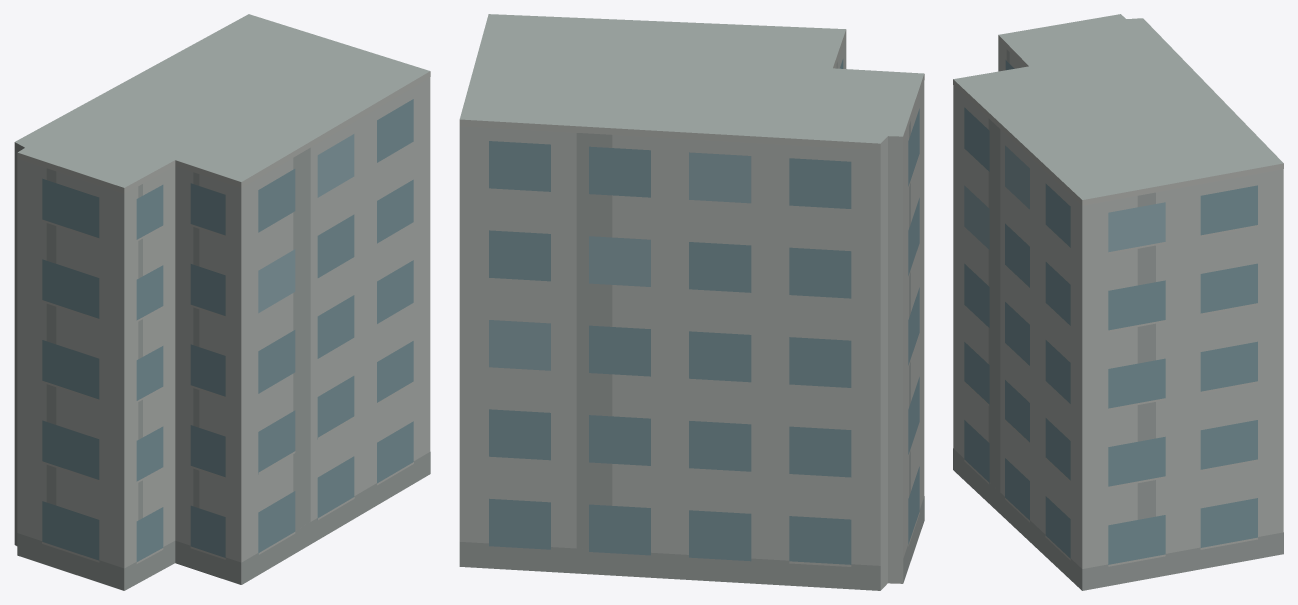
File: survey-upis-32851283.glb
3 renders of one model, left to right at view 1: azimuth 30°, elevation 25°; view 2: azimuth 150°, elevation 25°; view 3: azimuth 270°, elevation 25°, orthographic. The views are drawn at different scales.
Visible parts, largest first — view 1: survey-upis-32851283.tmp; view 2: survey-upis-32851283.tmp; view 3: survey-upis-32851283.tmp.
Part boxes in pixels (<box>): survey-upis-32851283.tmp: <box>14,14,430,590</box>; survey-upis-32851283.tmp: <box>459,14,924,590</box>; survey-upis-32851283.tmp: <box>953,14,1283,590</box>.
Size of the model in its own units: 16.81 by 16.45 by 12.62.
